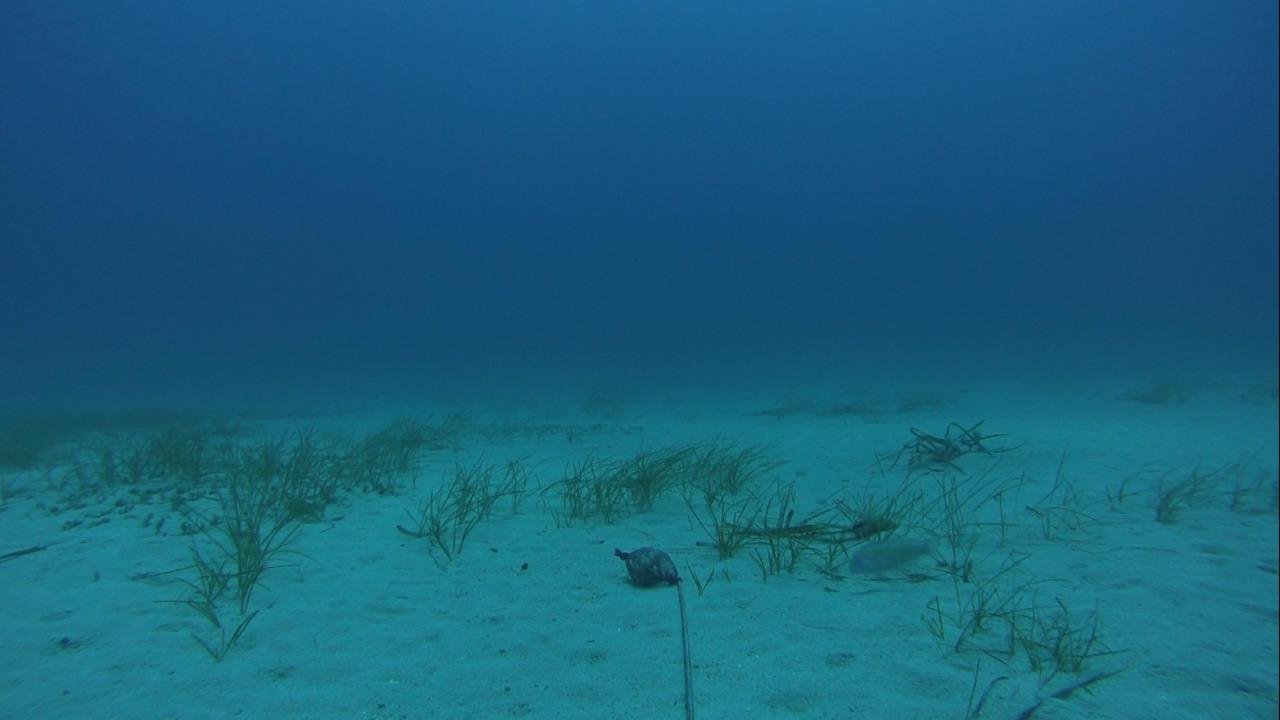raor: (846, 533, 941, 577)
